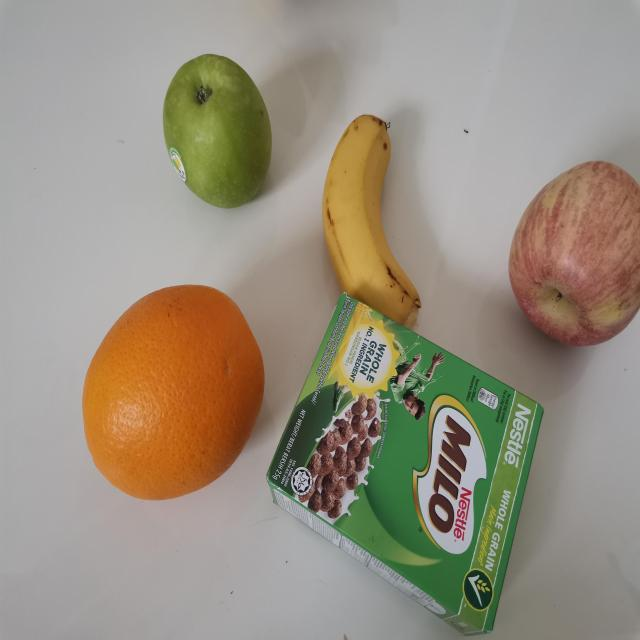Apple: (508, 159, 640, 352), (160, 49, 275, 209)
Banana: (320, 114, 423, 332)
Cerealbox: (263, 291, 543, 638)
Orange: (79, 281, 269, 504)
